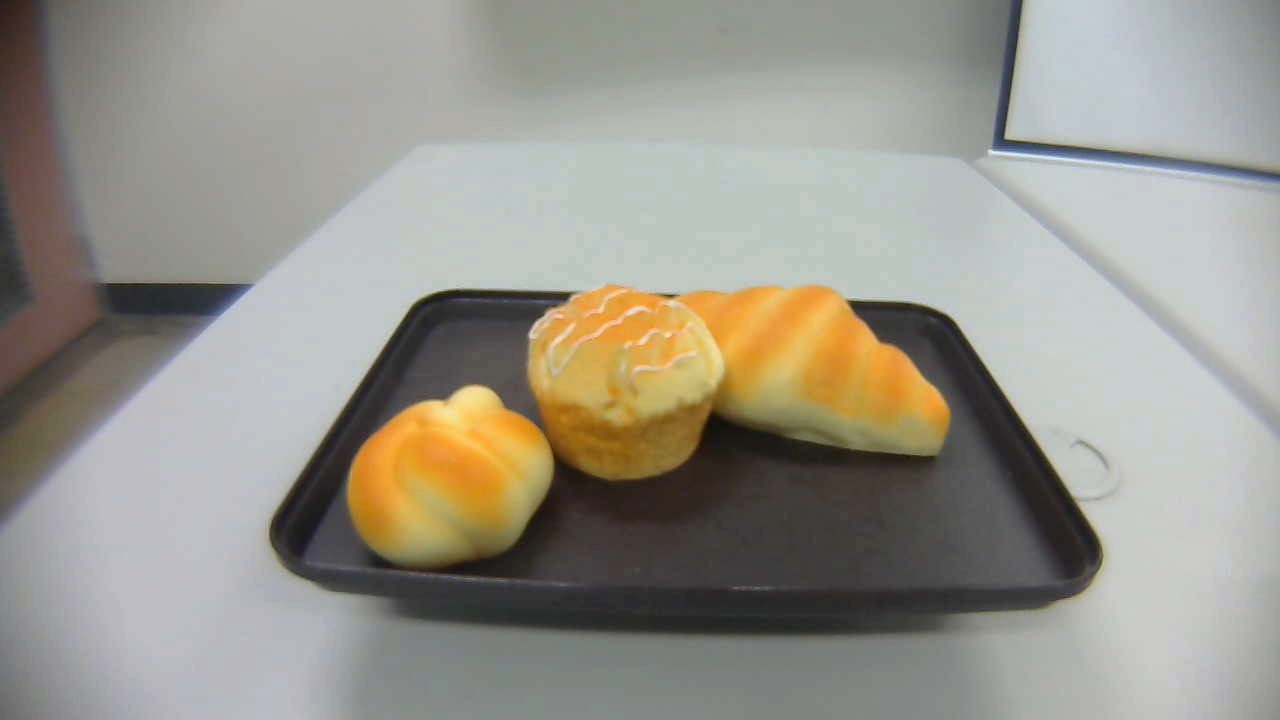croissant: (645, 285, 952, 461)
cupcake: (529, 285, 724, 481)
twist bread: (343, 385, 555, 568)
